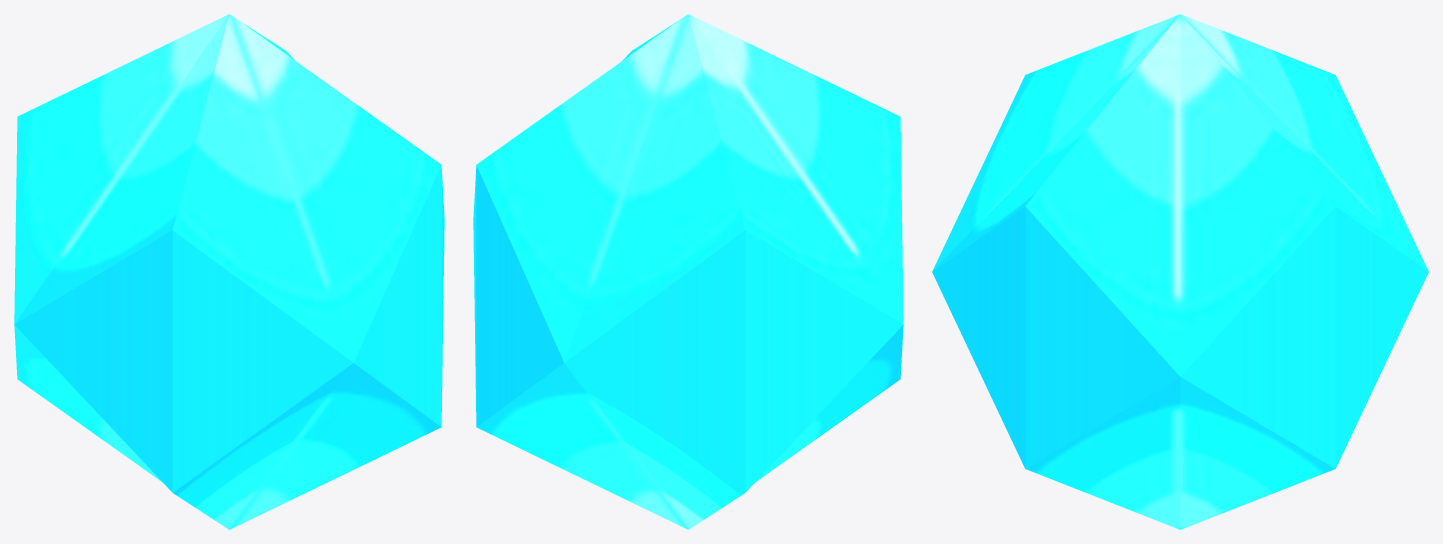
File: BS_Loot_XpOrb_final.glb
3 renders of one model, left to right at view 1: azimuth 30°, elevation 25°; view 2: azimuth 150°, elevation 25°; view 3: azimuth 270°, elevation 25°, orthographic.
Parts seen in each view (by area): view 1: BS_Loot_XpOrb; view 2: BS_Loot_XpOrb; view 3: BS_Loot_XpOrb.
Boxes of the visible parts, x1,y1,x2,y2 form: BS_Loot_XpOrb: [14, 14, 444, 529]; BS_Loot_XpOrb: [473, 14, 903, 529]; BS_Loot_XpOrb: [932, 14, 1428, 529].
Size of the model in its own units: 0.96 by 1.1 by 0.96.
1 material, 1 textured.
